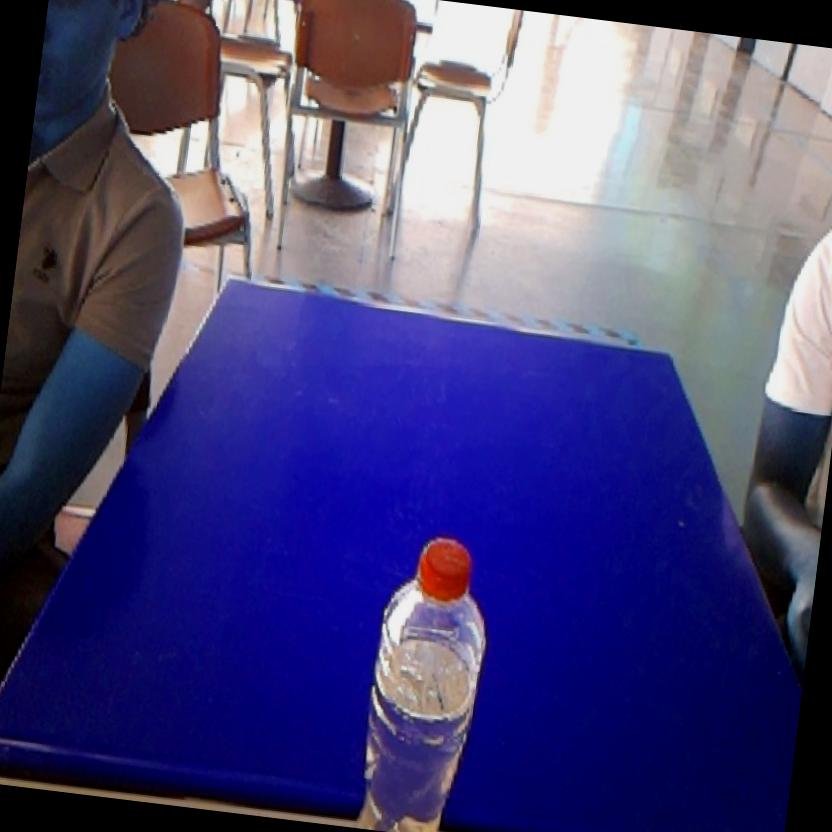no_label: (343, 518, 507, 832)
